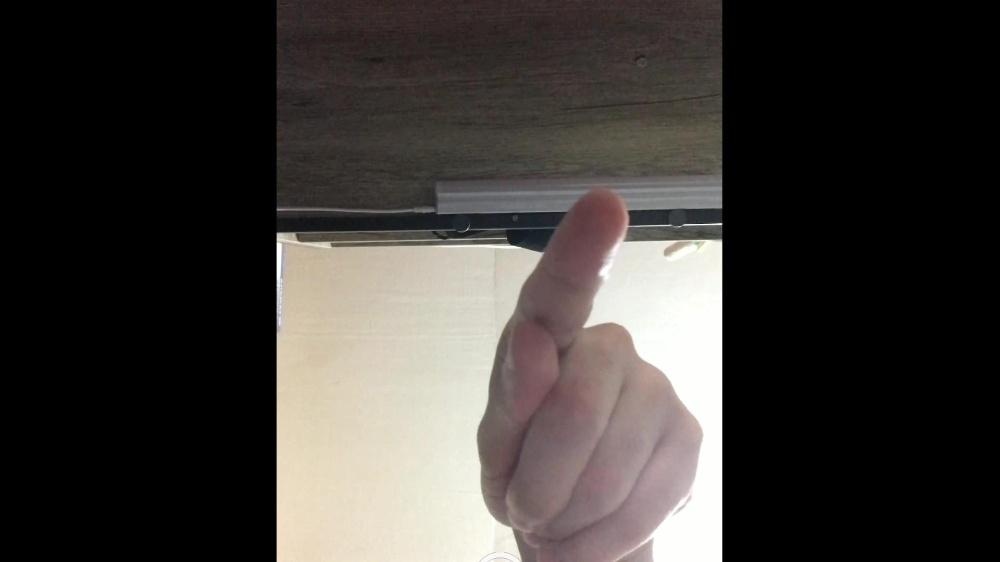z: (474, 188, 704, 562)
